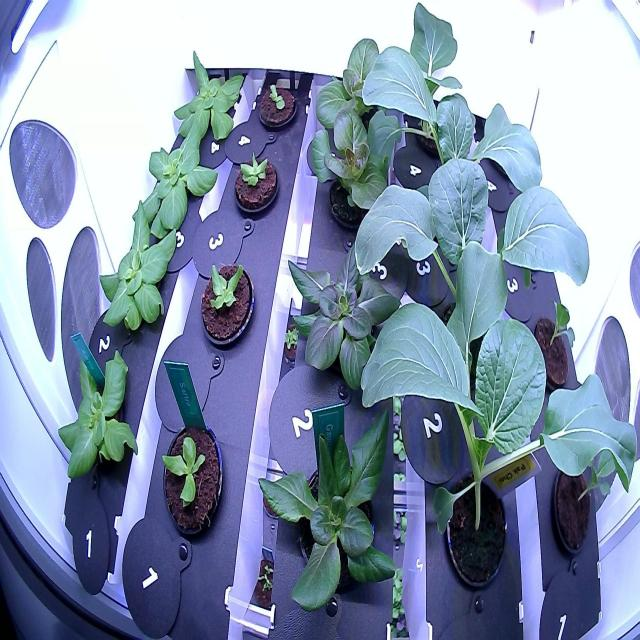young: (253, 388, 408, 630), (276, 231, 405, 405), (304, 95, 403, 251), (89, 190, 182, 341), (49, 341, 142, 492), (308, 23, 409, 155), (130, 112, 222, 251), (154, 416, 232, 545), (165, 40, 248, 157), (196, 249, 258, 350), (230, 147, 282, 221), (254, 71, 304, 138)
